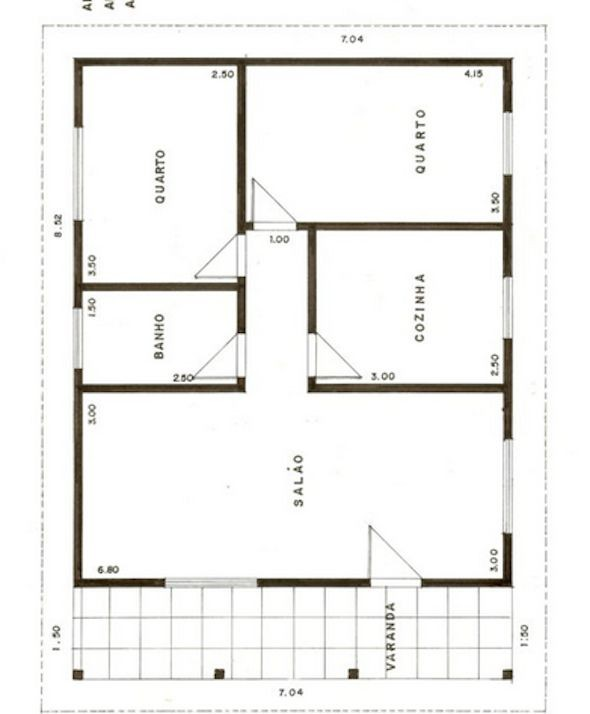door: (345, 515, 429, 585), (245, 145, 306, 234), (188, 212, 248, 284), (302, 328, 372, 386), (182, 327, 249, 387)
room: (74, 386, 516, 595), (244, 59, 514, 225), (76, 58, 247, 285), (309, 225, 516, 393), (72, 282, 251, 394), (243, 222, 312, 395)
wall: (69, 46, 517, 73), (307, 376, 519, 404), (64, 371, 88, 593), (78, 372, 249, 402), (293, 216, 332, 331), (256, 565, 371, 600), (72, 272, 242, 295), (229, 53, 250, 238), (493, 337, 526, 444), (297, 218, 517, 234), (492, 173, 519, 281), (69, 568, 164, 598), (416, 569, 518, 593), (490, 534, 524, 591), (69, 217, 88, 311), (69, 50, 91, 128), (232, 273, 257, 336), (498, 54, 519, 113)
window: (488, 435, 529, 538), (64, 306, 98, 378), (491, 109, 525, 178), (492, 275, 526, 340), (68, 119, 87, 224)
